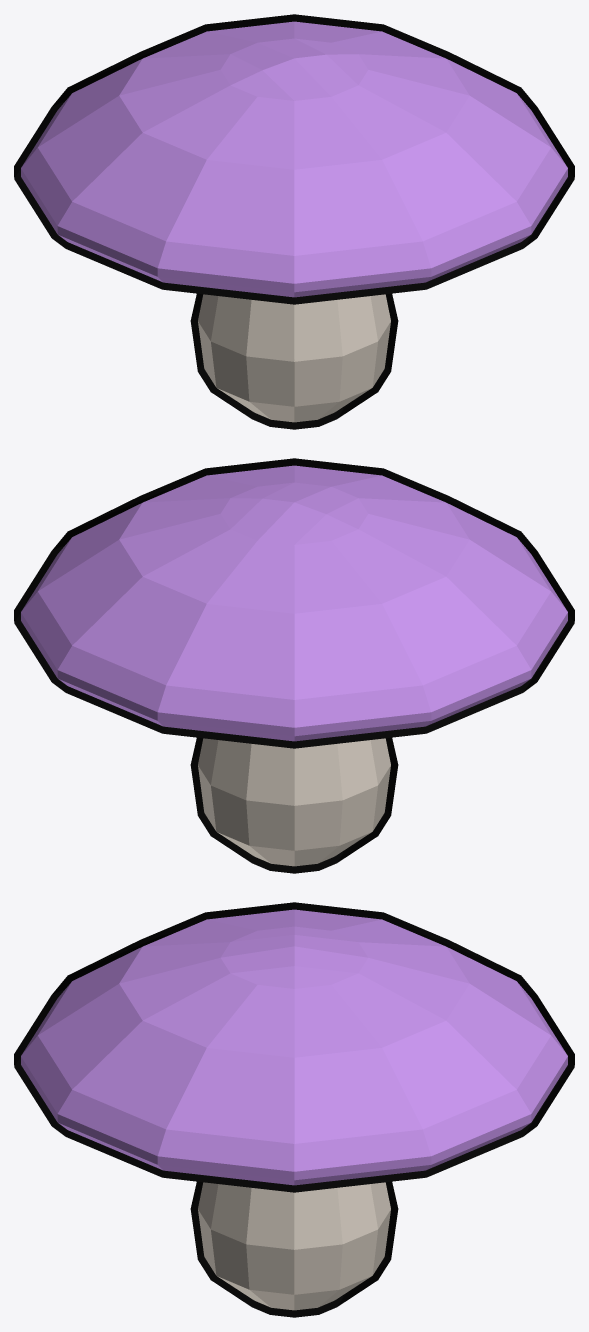
The model's file is shroom_1.fbx.
3 renders of one model, top to bottom at view 1: azimuth 30°, elevation 25°; view 2: azimuth 150°, elevation 25°; view 3: azimuth 270°, elevation 25°, orthographic.
Parts seen in each view (by area): view 1: shroom_1, shroom_1_outliner; view 2: shroom_1, shroom_1_outliner; view 3: shroom_1, shroom_1_outliner.
Part boxes in pixels (x1,y1,x2,y2): shroom_1: (21, 21, 567, 422); shroom_1_outliner: (14, 14, 574, 429); shroom_1: (21, 465, 567, 866); shroom_1_outliner: (14, 458, 574, 873); shroom_1: (21, 909, 567, 1310); shroom_1_outliner: (14, 902, 574, 1317).
Bounding box in the file's own units: 33.5 × 23.53 × 33.5.
